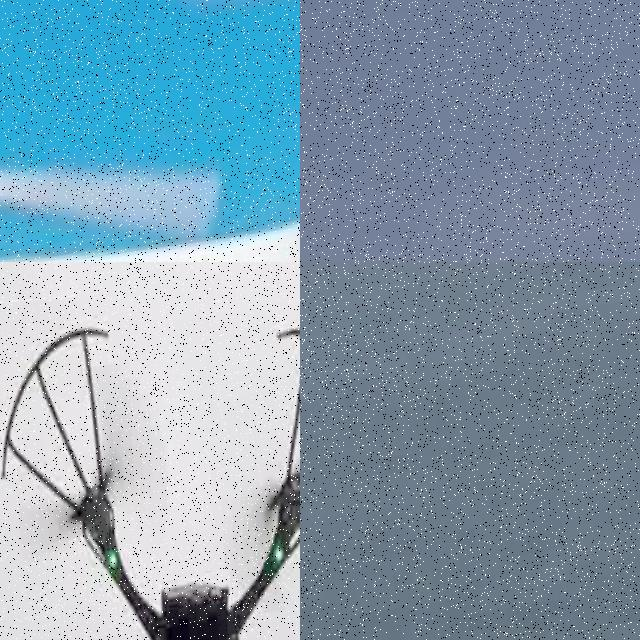drone: (0, 262, 300, 640), (0, 0, 300, 262)
